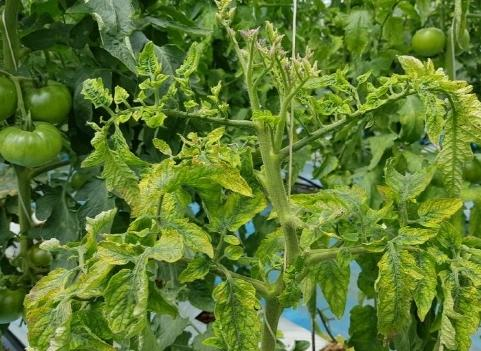Tomato leaf yellow virus: (4, 264, 78, 351), (369, 242, 424, 351), (88, 130, 157, 213), (208, 267, 265, 351), (105, 264, 153, 350), (434, 274, 481, 351), (310, 254, 352, 322), (208, 155, 256, 210), (163, 214, 222, 257), (412, 198, 475, 227), (145, 231, 188, 265), (446, 256, 481, 291), (94, 238, 128, 271)
